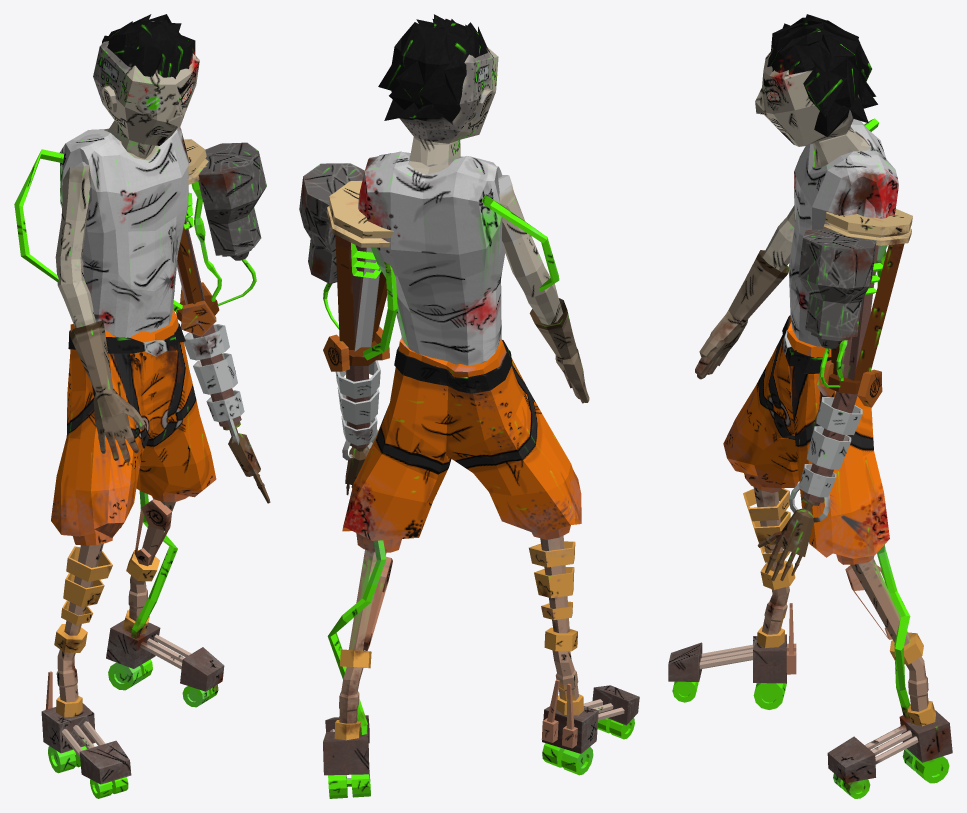
Rendered from CyborgFINALAnimation_000160.obj.
3 views of the same model, side by side, from view 1: azimuth 30°, elevation 25°; view 2: azimuth 150°, elevation 25°; view 3: azimuth 270°, elevation 25° (orthographic). The views are drawn at different scales.
Parts seen in each view (by area): view 1: CyborgMesh_Cube.002; view 2: CyborgMesh_Cube.002; view 3: CyborgMesh_Cube.002.
Boxes of the visible parts, <box> form: CyborgMesh_Cube.002: <box>14,14,270,798</box>; CyborgMesh_Cube.002: <box>299,14,639,798</box>; CyborgMesh_Cube.002: <box>668,14,952,798</box>.
Size of the model in its own units: 3.46 by 9.62 by 3.36.
